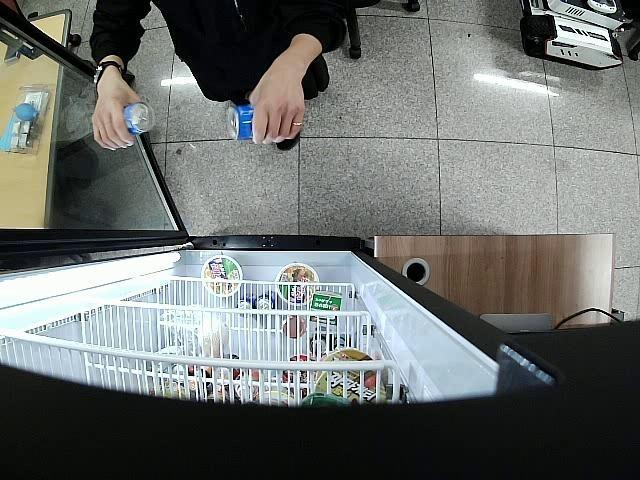15_letsbe: (122, 101, 156, 134), (226, 104, 255, 142)
